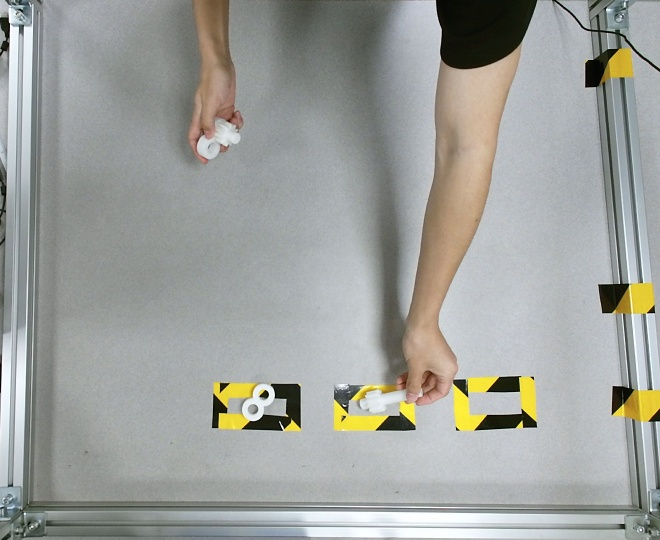stage_2: (196, 118, 240, 159)
